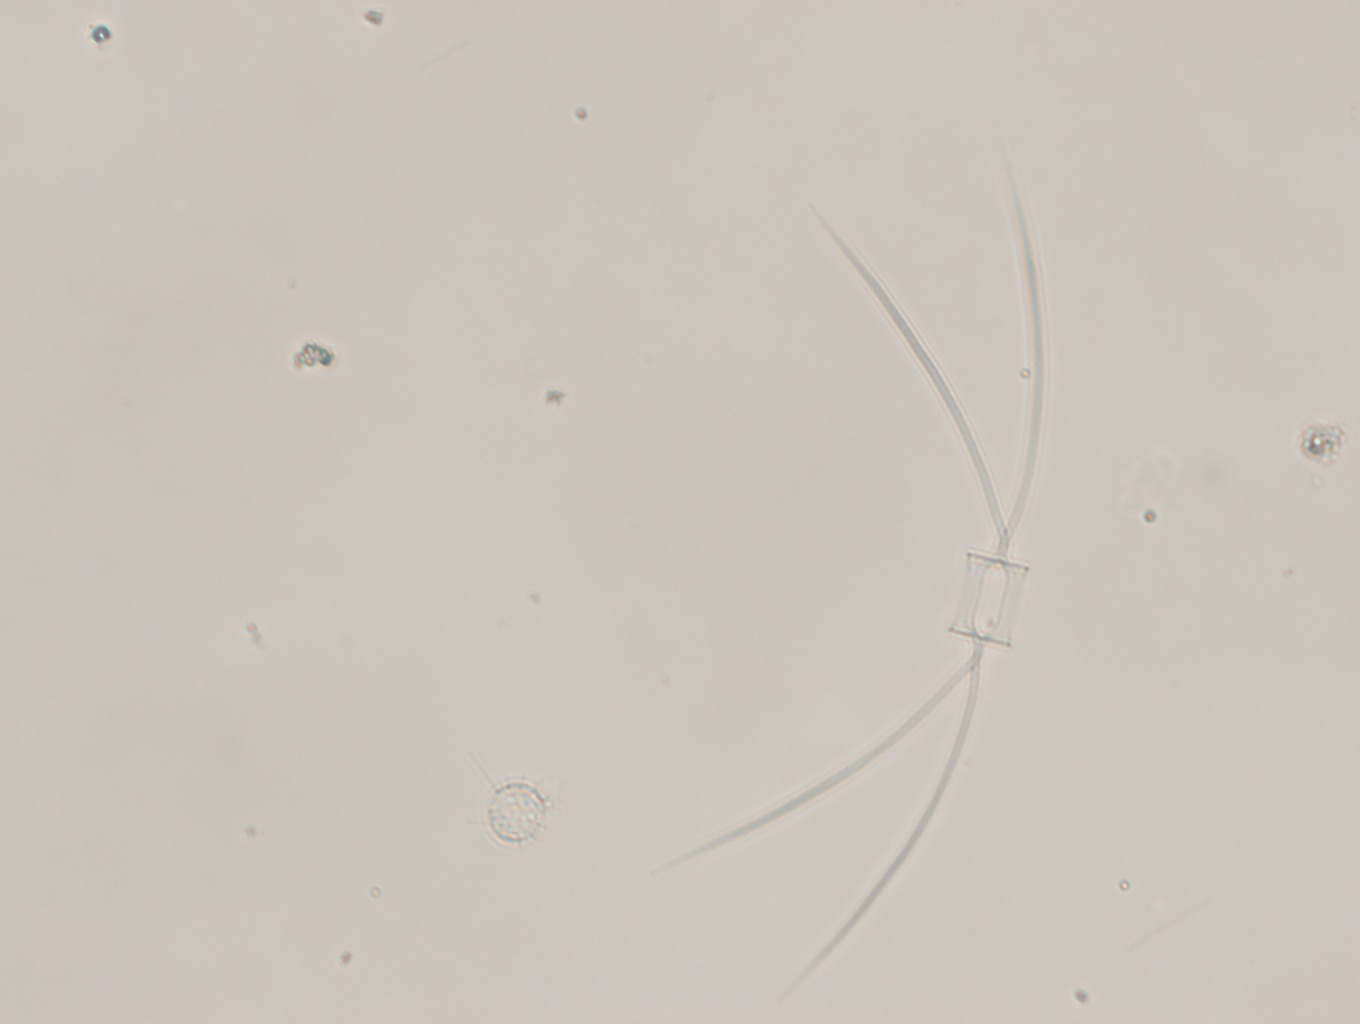chaetoceros: (662, 127, 1053, 987)
